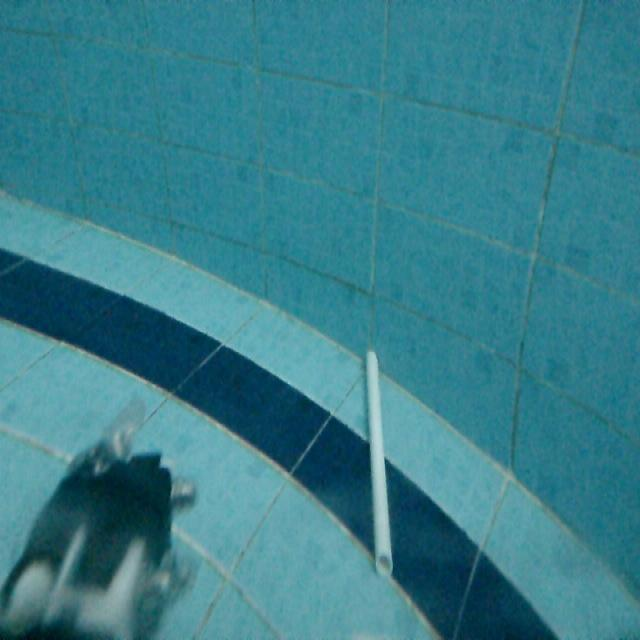Cube: (361, 342, 396, 578)
